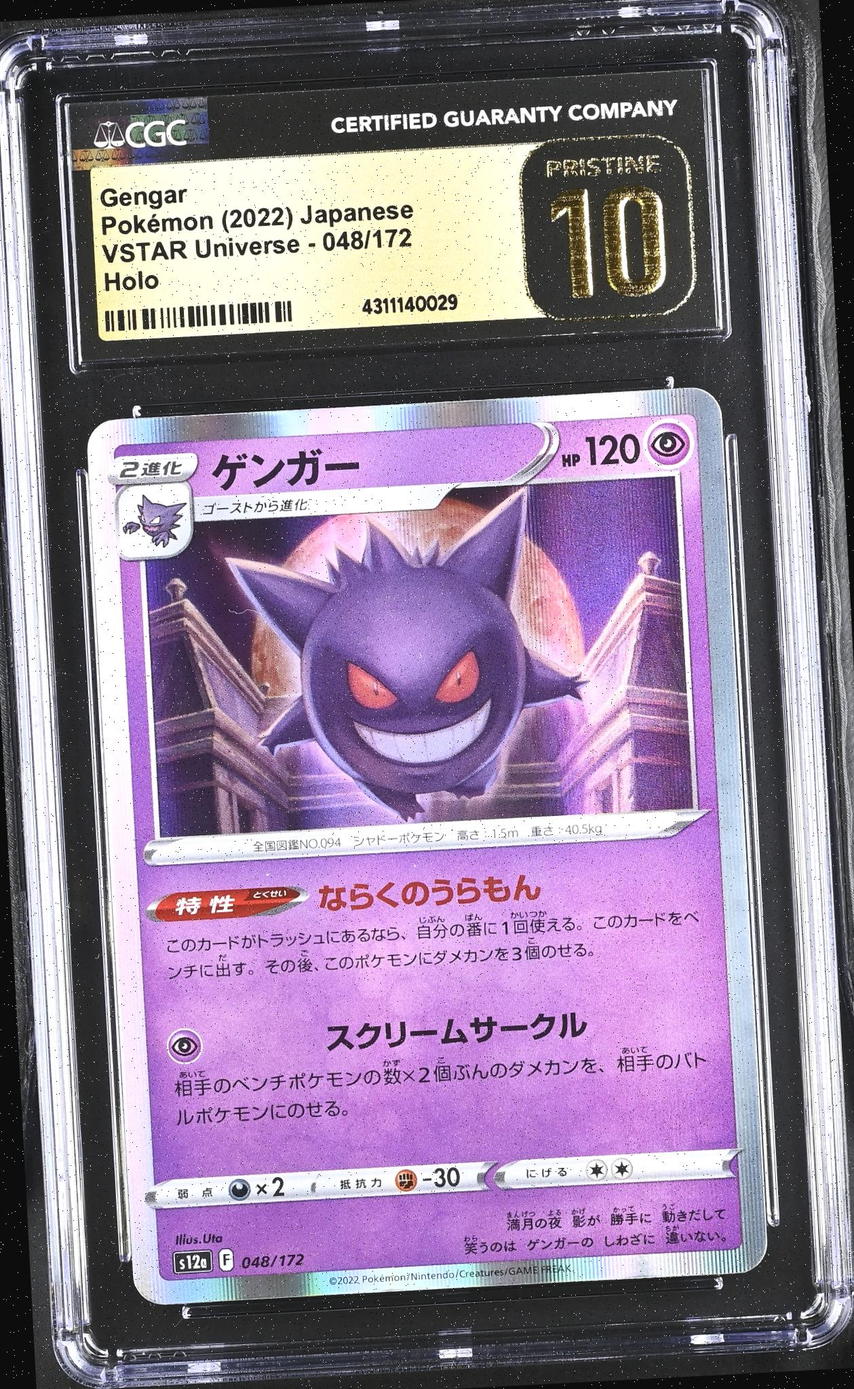card-2UtV: (86, 387, 768, 1305)
